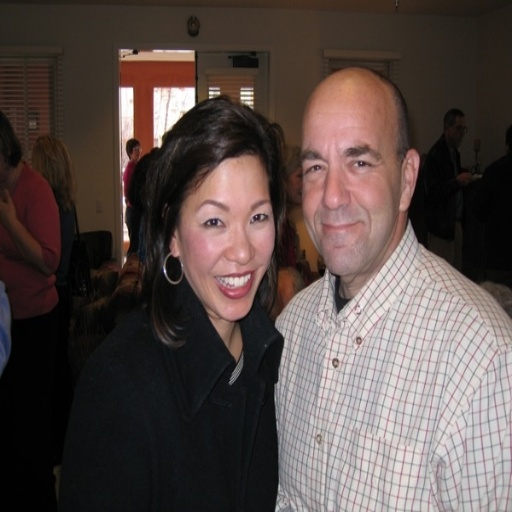hand: (0, 185, 16, 226), (458, 171, 477, 188)
